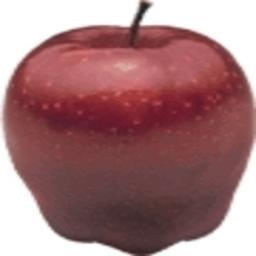apple: (5, 22, 252, 254)
